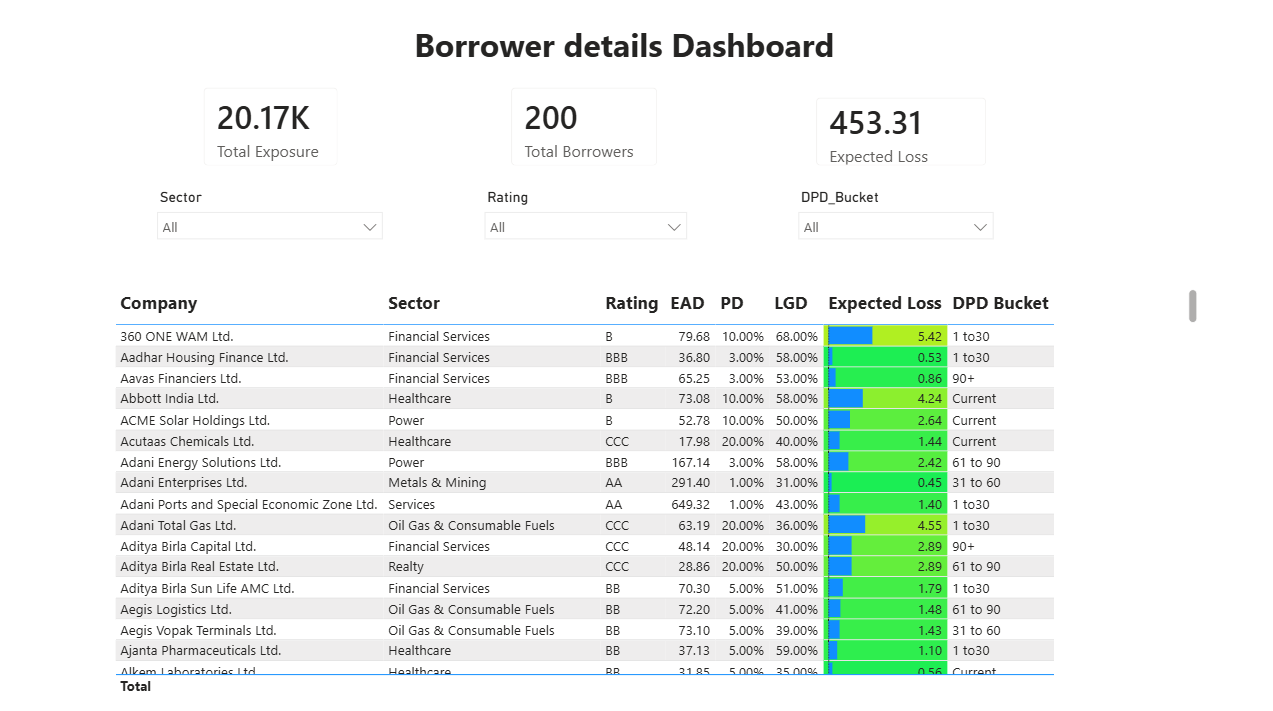

This screenshot's page, from the dashboard's own definition file:
{"tool":"powerbi","page":{"name":"Borrower Details","canvas":[1280,720],"ordinal":4},"visuals":[{"type":"textbox","box":[410.9,20.8,456.1,62.4],"z":0},{"type":"cardVisual","fields":{"Data":["Sum(Credit_Risk_Portfolio.EAD)"]},"box":[188.3,73.4,168.8,112.5],"z":1000},{"type":"cardVisual","fields":{"Data":["Credit_Risk_Portfolio.Total Borrowers"]},"box":[496.5,73.4,181,112.5],"z":2000},{"type":"cardVisual","fields":{"Data":["Sum(Credit_Risk_Portfolio.Expected_Loss)"]},"box":[801,83.2,204.2,102.7],"z":3000},{"type":"slicer","fields":{"Values":["Credit_Risk_Portfolio.Sector"]},"box":[149.2,185.9,245.8,73.4],"z":4000},{"type":"slicer","fields":{"Values":["Credit_Risk_Portfolio.Rating"]},"box":[475.7,185.9,222.6,73.4],"z":5000},{"type":"slicer","fields":{"Values":["Credit_Risk_Portfolio.DPD_Bucket"]},"box":[789.9,185.9,215.2,73.4],"z":6000},{"type":"tableEx","fields":{"Values":["Credit_Risk_Portfolio.Company","Credit_Risk_Portfolio.Sector","Credit_Risk_Portfolio.Rating","Credit_Risk_Portfolio.EAD","Credit_Risk_Portfolio.PD","Credit_Risk_Portfolio.LGD","Credit_Risk_Portfolio.Expected_Loss","Credit_Risk_Portfolio.DPD_Bucket"]},"box":[111.3,287.4,1093.2,415.8],"z":7000}]}

Visuals, with their boxes in screenshot pixels (x1, y1, x2, y2), scaled from the page's 1280x720 canvas onto the 1273x711 screenshot:
textbox: Rect(409, 21, 862, 82)
cardVisual - Sum(Credit_Risk_Portfolio.EAD): Rect(187, 72, 355, 184)
cardVisual - Credit_Risk_Portfolio.Total Borrowers: Rect(494, 72, 674, 184)
cardVisual - Sum(Credit_Risk_Portfolio.Expected_Loss): Rect(797, 82, 1000, 184)
slicer - Credit_Risk_Portfolio.Sector: Rect(148, 184, 393, 256)
slicer - Credit_Risk_Portfolio.Rating: Rect(473, 184, 694, 256)
slicer - Credit_Risk_Portfolio.DPD_Bucket: Rect(786, 184, 1000, 256)
tableEx - Credit_Risk_Portfolio.Company x Credit_Risk_Portfolio.Sector: Rect(111, 284, 1198, 694)
